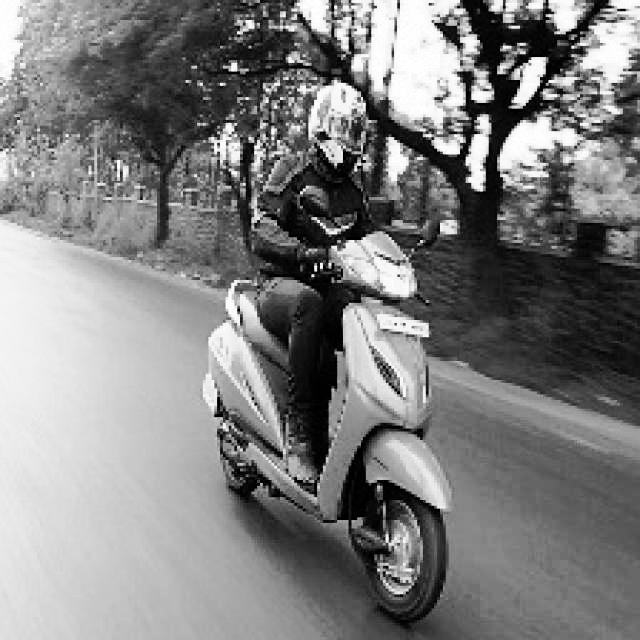Bike: (206, 223, 458, 631)
